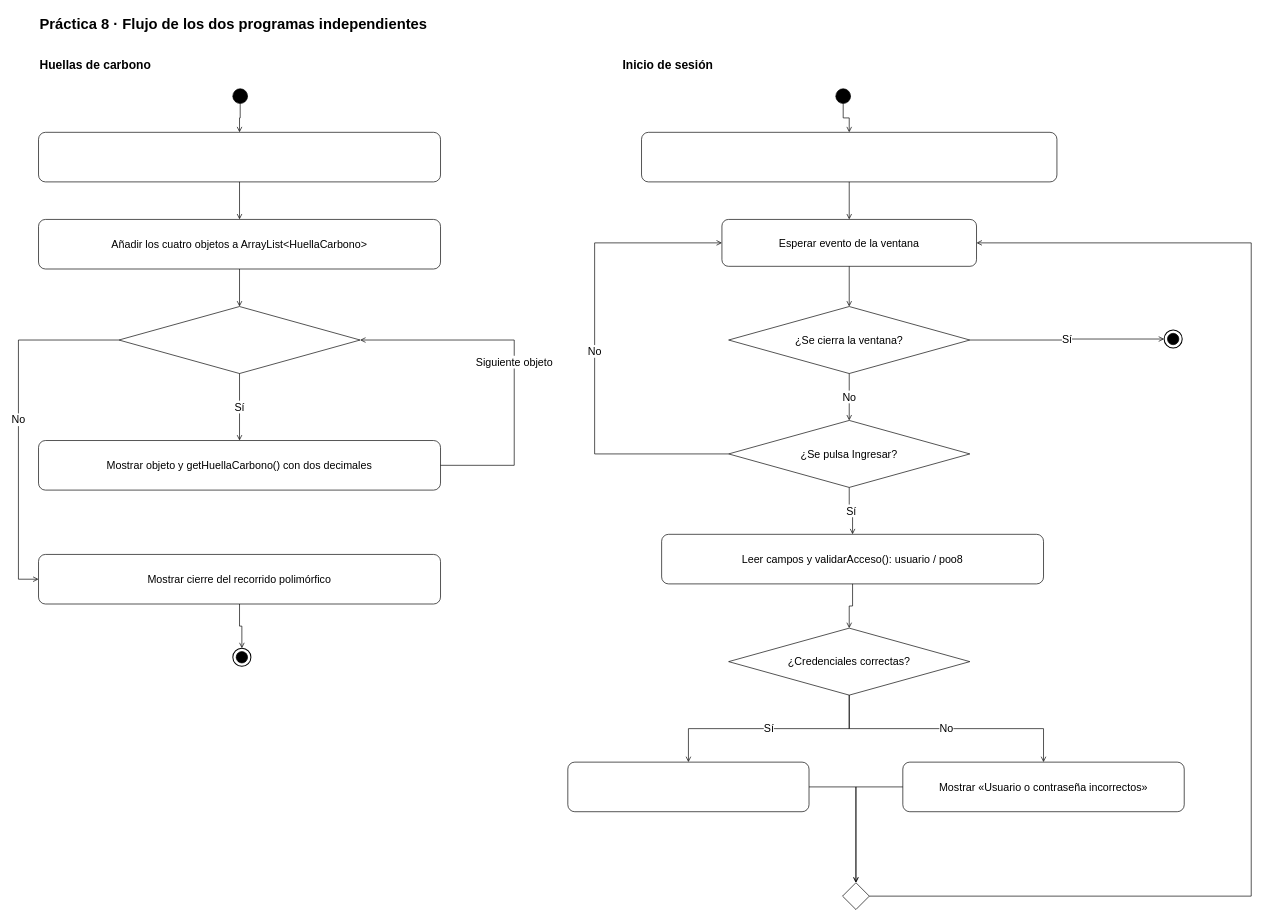
This 1268x921 diagram has some shape labels left out. Here are the shapes that lost their labels. From the top down, the centre of each, then its label:
(239,157): Crear Edificio, Auto, Bicicleta y Edificio sin consumo
(849,157): Crear LoginGUI, ventana, campos y botón; setVisible(true)
(239,340): ¿Quedan objetos en la lista?
(688,786): Mostrar «Acceso correcto»
